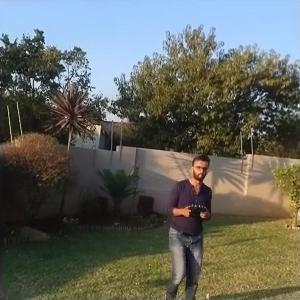follow: (162, 150, 214, 298)
